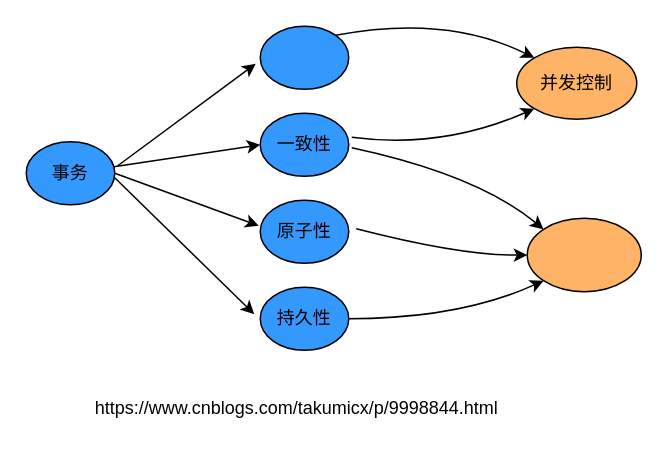
Image size: 668x449. Some labels were removed from this diagram. Here are the shapes that lost their labels. From the top down, the centre of each, then its label:
At (304,57): "隔离性".
At (583,254): "日志恢复".
